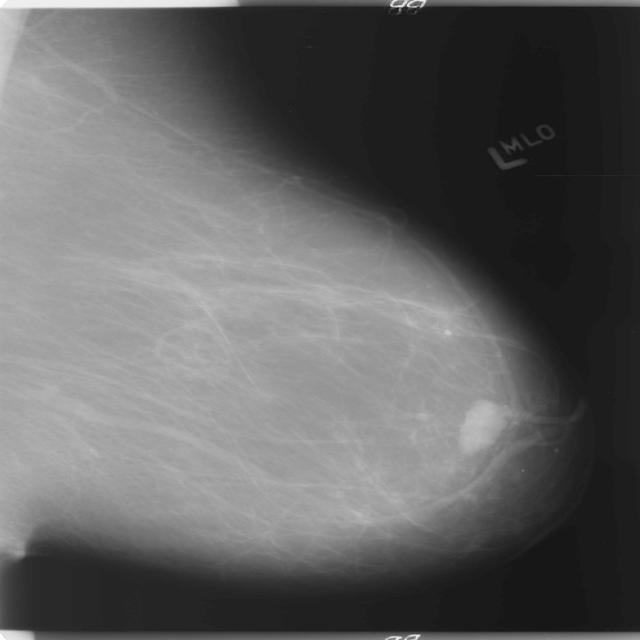tumour: (456, 401, 511, 453)
